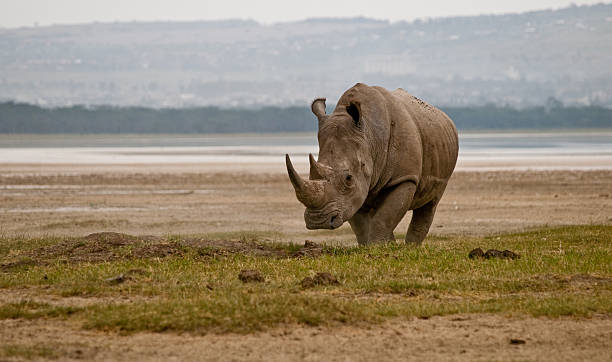rhino: (267, 70, 397, 238)
